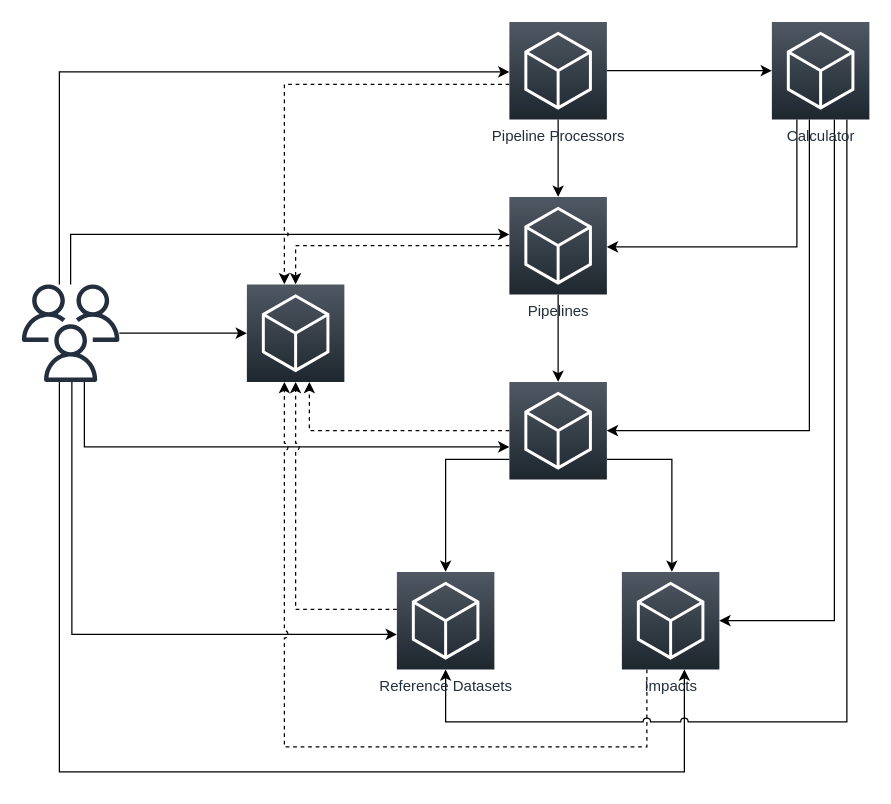
Some shapes in this 891 by 804 pixel diagram are drawn without their labels. The centre of each missing label's shape, as x and y in pixels:
"Access Management" belongs at [295,332].
"Calculations" belongs at [557,430].
"Users" belongs at [70,332].
